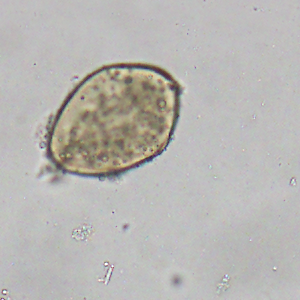Fasciola_hepatica_egg: (44, 61, 186, 180)
